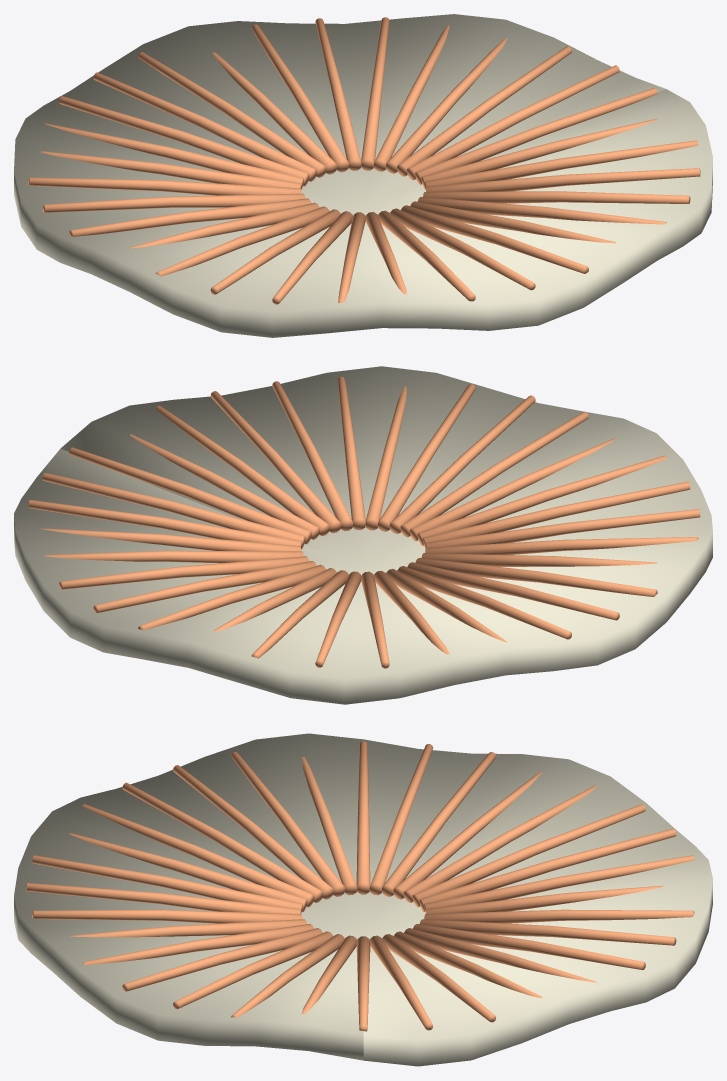
Rendered from underwater-reef-worlds-mushroom-coral-b0a689fd__7001.glb.
3 views of the same model, one above another, from view 1: azimuth 30°, elevation 25°; view 2: azimuth 150°, elevation 25°; view 3: azimuth 270°, elevation 25° (orthographic).
Visible parts, largest first — view 1: mushroom-coral; view 2: mushroom-coral; view 3: mushroom-coral.
Boxes of the visible parts, x1,y1,x2,y2 form: mushroom-coral: [14, 14, 712, 337]; mushroom-coral: [14, 366, 712, 704]; mushroom-coral: [14, 733, 712, 1066].
Size of the model in its own units: 1.1 by 0.1399 by 1.1.
